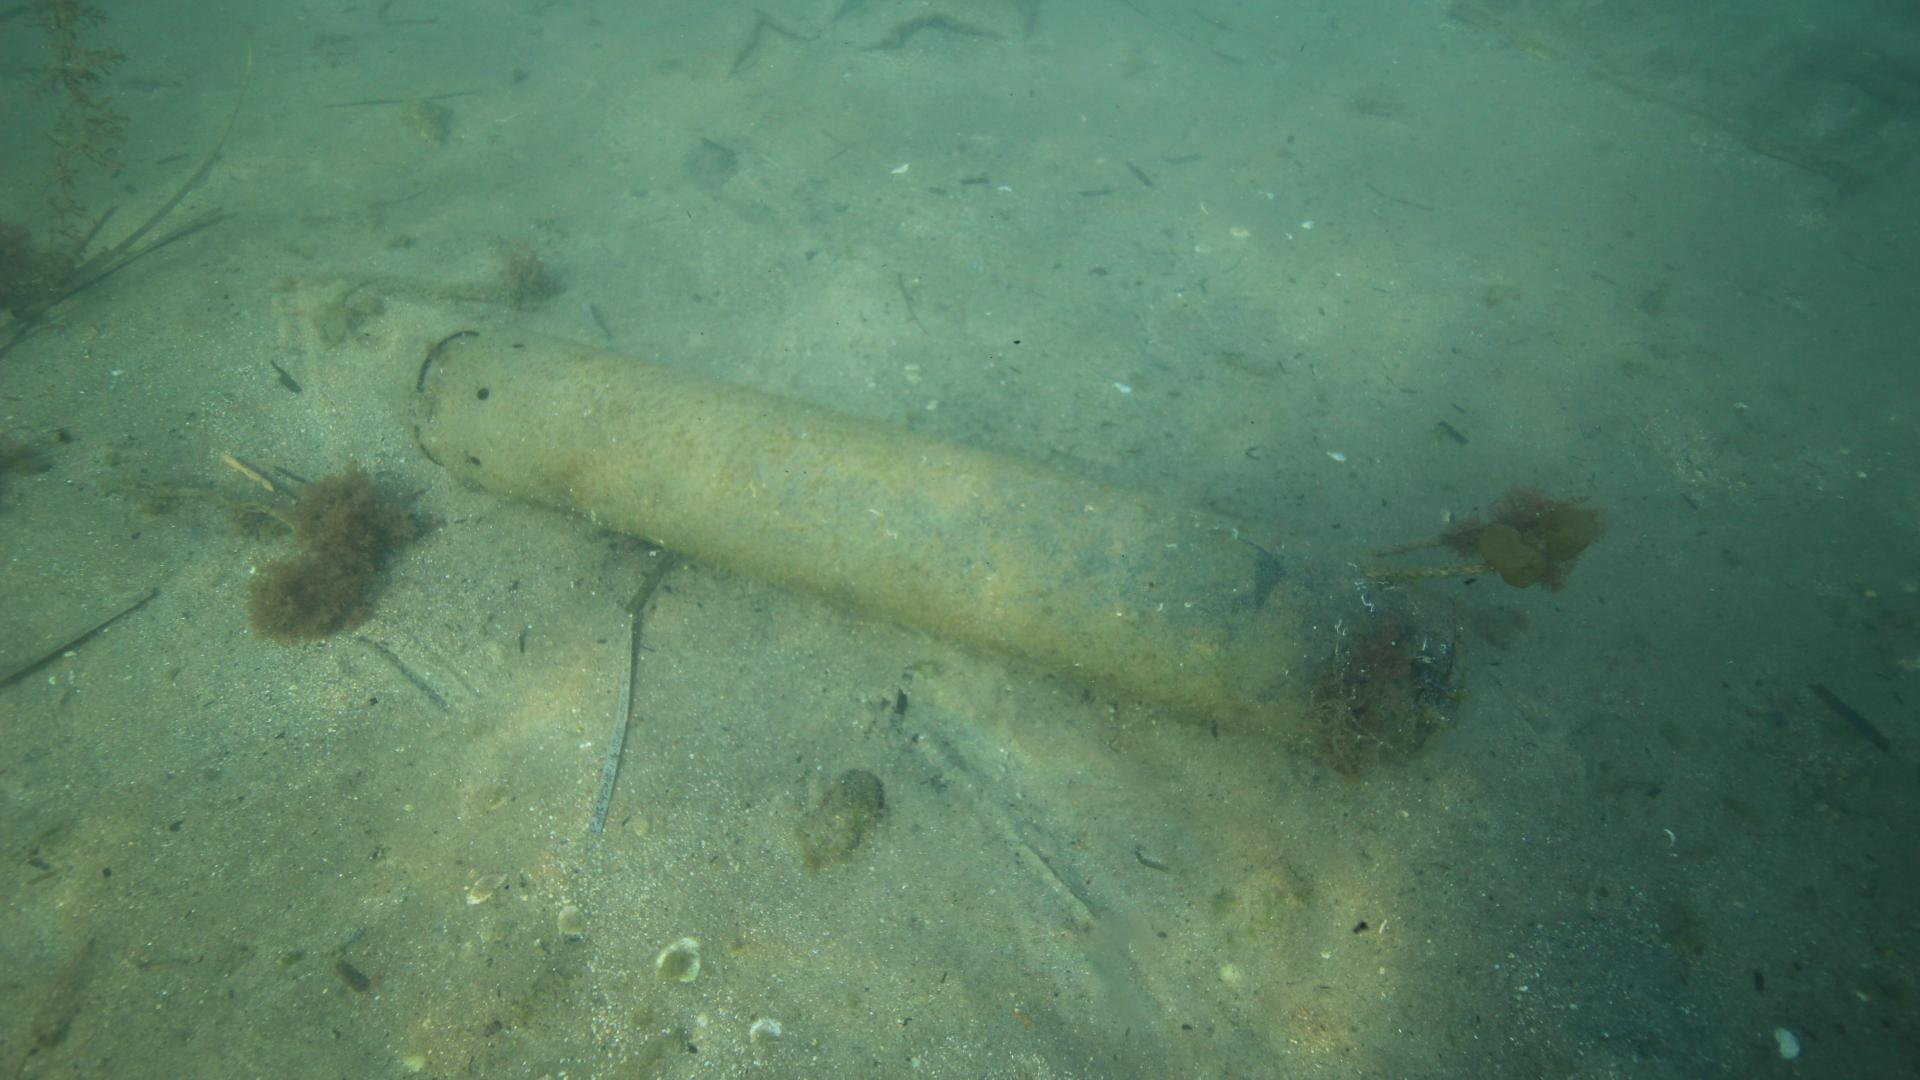eel fish trap: (405, 323, 1462, 766)
